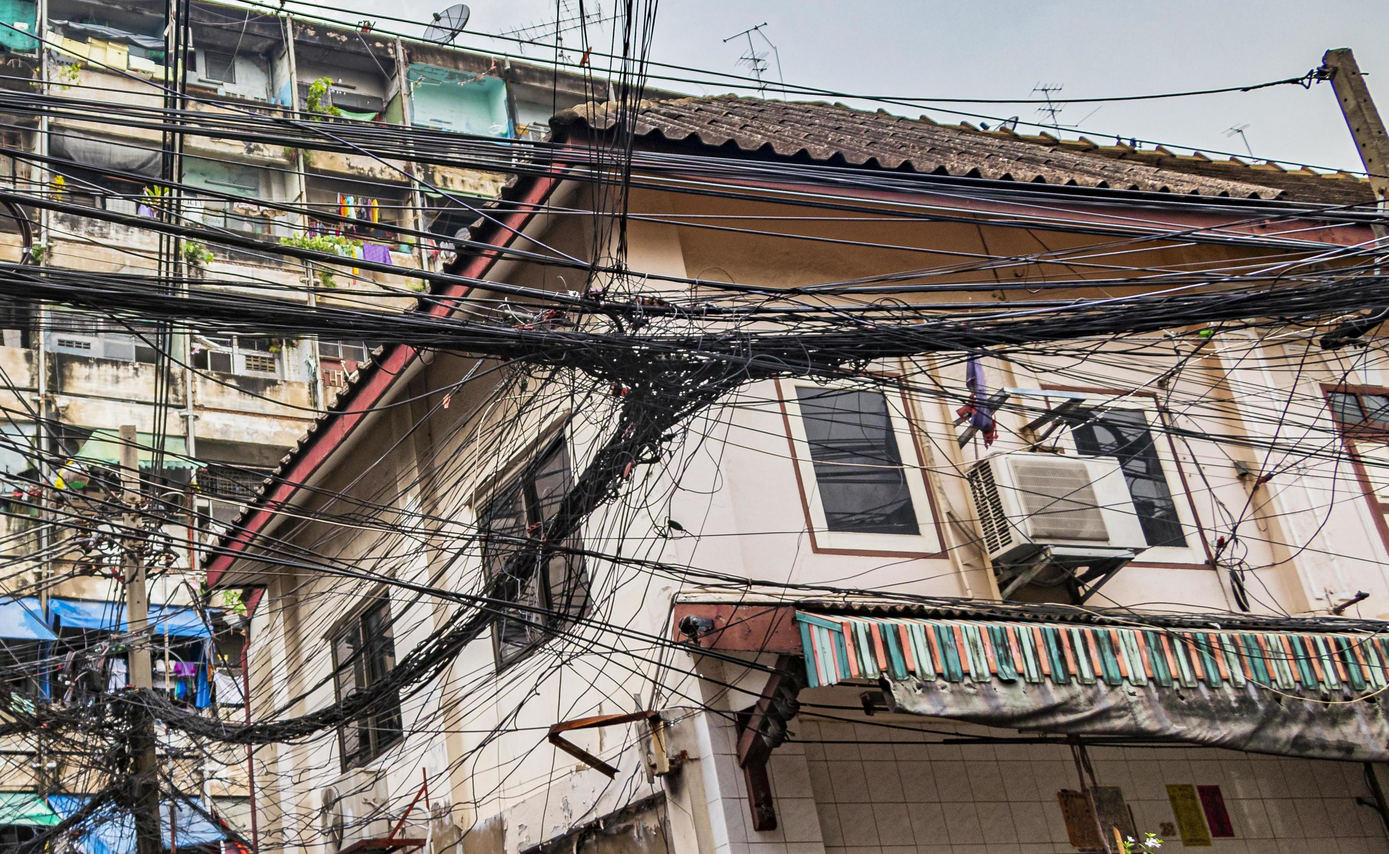wires: (3, 194, 1389, 403), (240, 394, 695, 773), (12, 623, 288, 854)
